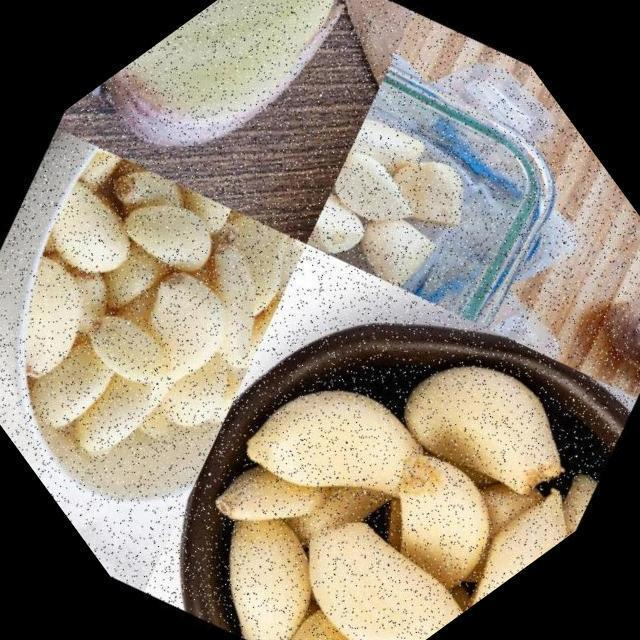garlic: (0, 70, 383, 559), (75, 0, 415, 242), (214, 305, 476, 572), (264, 72, 528, 334), (361, 290, 618, 554), (237, 440, 505, 640), (329, 409, 555, 633), (147, 454, 388, 640), (229, 0, 440, 133), (452, 445, 620, 592)
